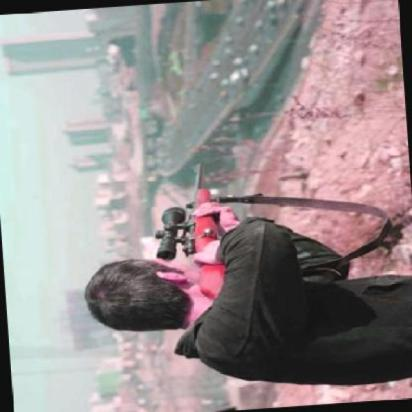Gun: (146, 155, 242, 310)
